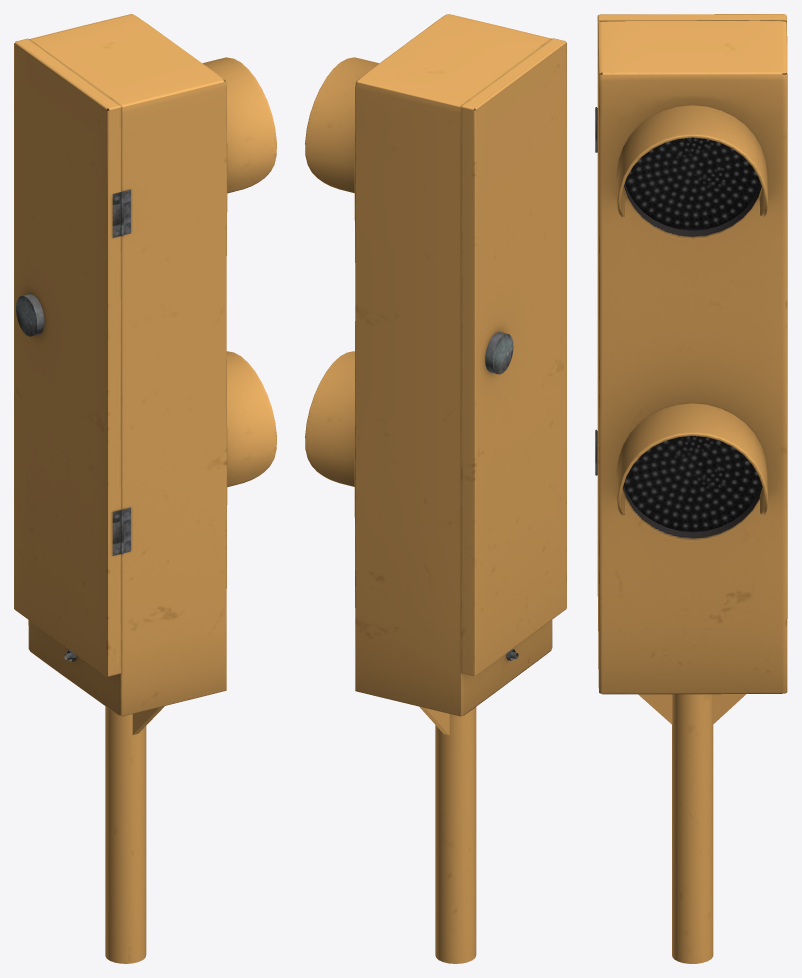
Rendered from Preset_BlinkerA.fbx.
3 renders of one model, left to right at view 1: azimuth 30°, elevation 25°; view 2: azimuth 150°, elevation 25°; view 3: azimuth 270°, elevation 25°, orthographic.
Parts seen in each view (by area): view 1: Frame; view 2: Frame; view 3: Frame, Sig_Dw, Sig_Up.
Part boxes in pixels (x1,y1,x2,y2): Frame: (14, 14, 276, 963); Frame: (305, 14, 566, 963); Frame: (595, 14, 787, 963); Sig_Dw: (623, 436, 761, 532); Sig_Up: (625, 137, 760, 230).
Size of the model in its own units: 29.33 by 25.39 by 132.
Materials: 2 (2 with a texture image).
